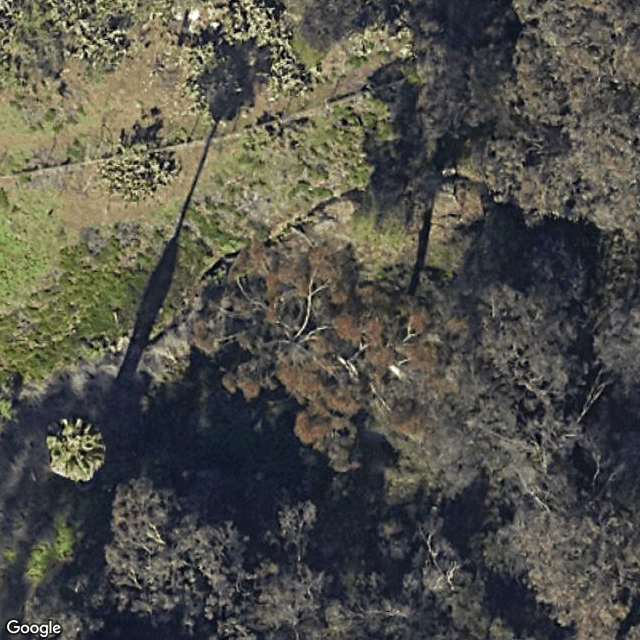palm: (37, 407, 116, 487)
